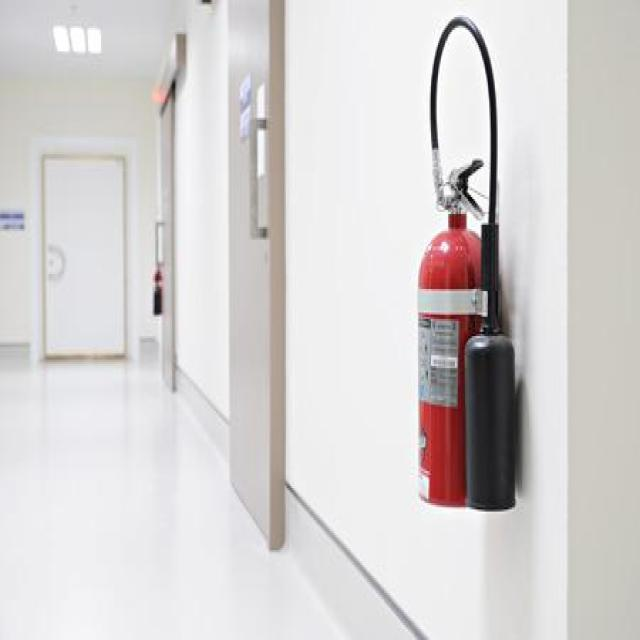fire_extinguisher: (412, 11, 520, 514)
